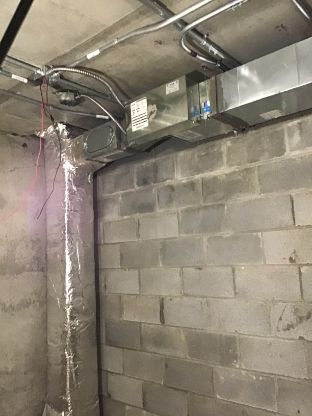Duct: (102, 31, 312, 163), (35, 110, 109, 416)
